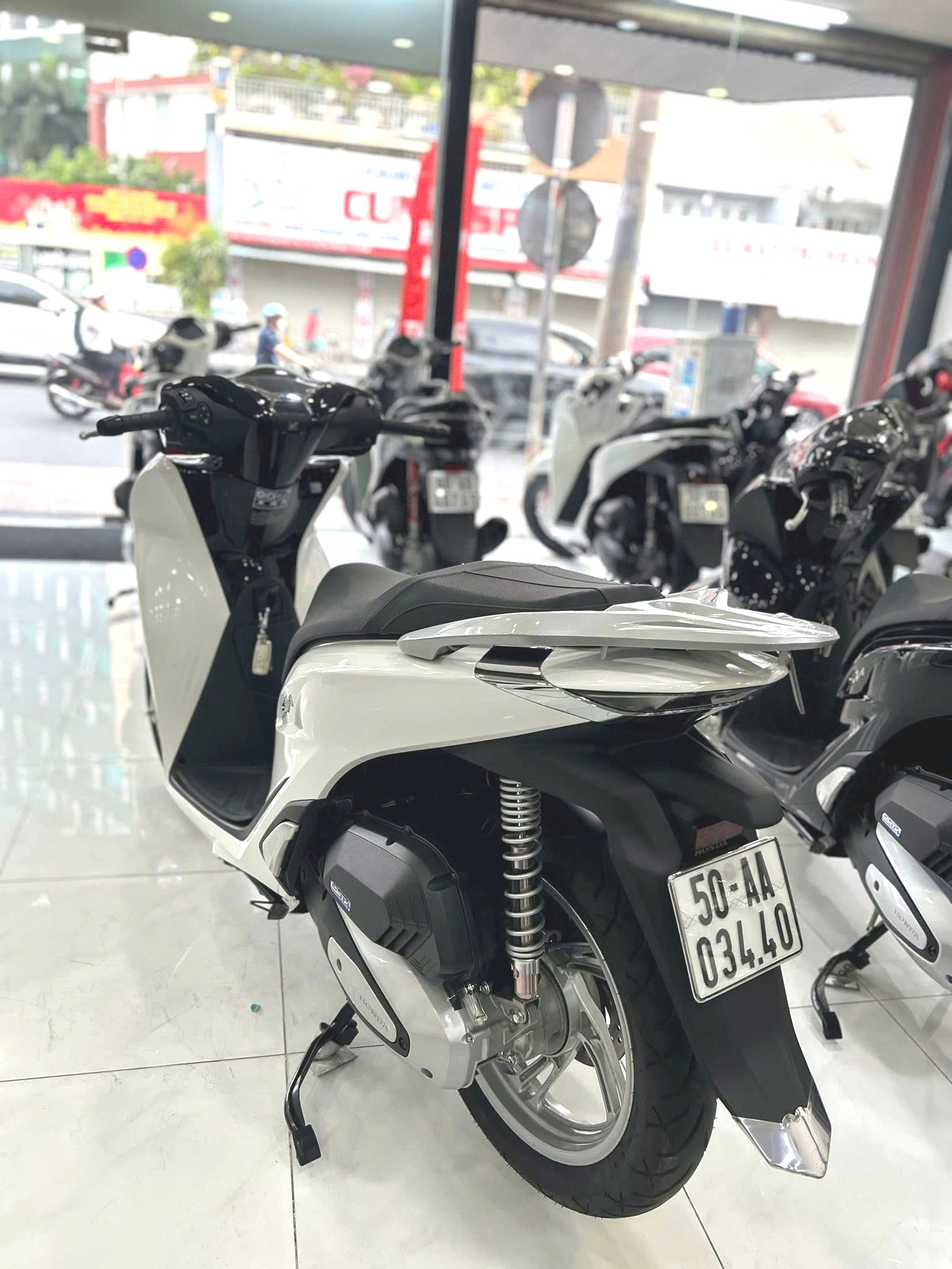Bien-so: (660, 806, 807, 983), (396, 428, 458, 475), (667, 439, 714, 481)
